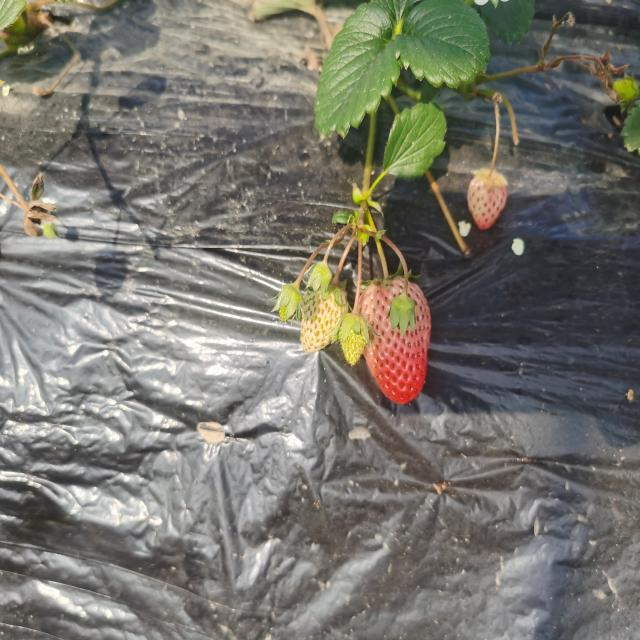stem: (376, 241, 390, 282)
strawberry: (361, 276, 431, 404)
